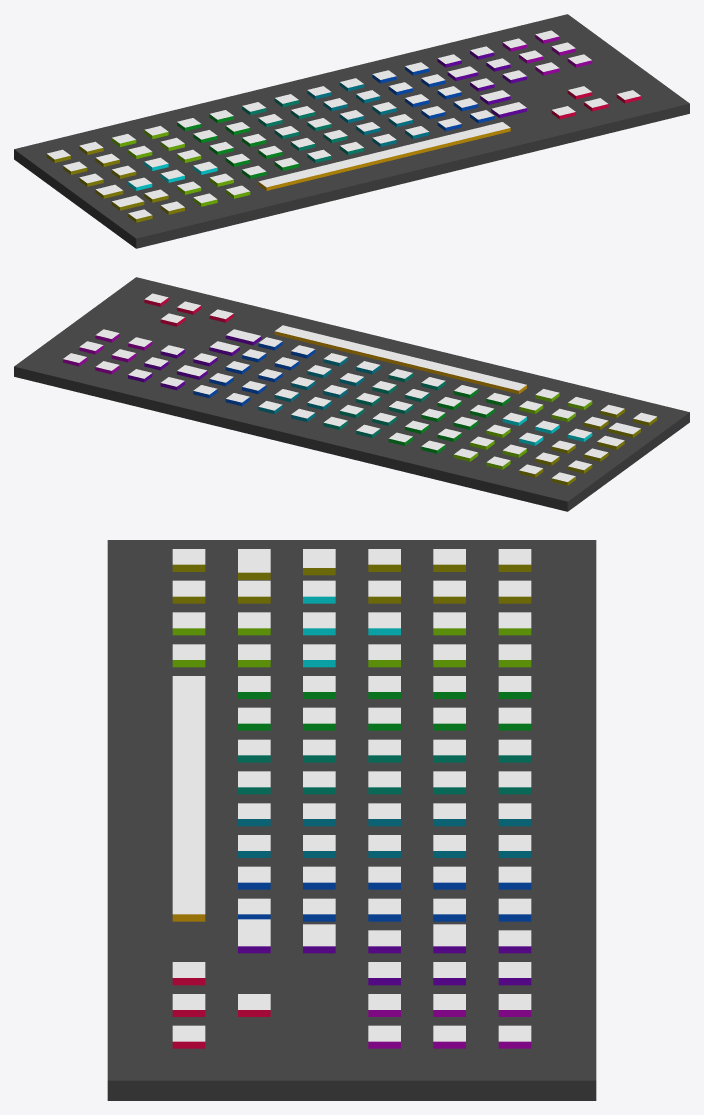
Rendered from SM_Keyboard.fbx.
3 renders of one model, top to bottom at view 1: azimuth 30°, elevation 25°; view 2: azimuth 150°, elevation 25°; view 3: azimuth 270°, elevation 25°, orthographic. The views are drawn at different scales.
Parts seen in each view (by area): view 1: pCube1; view 2: pCube1; view 3: pCube1.
Boxes of the visible parts, bbox=[...] form: pCube1: bbox=[14, 14, 689, 248]; pCube1: bbox=[14, 277, 689, 511]; pCube1: bbox=[107, 540, 596, 1100].
Bounding box in the file's own units: 210 × 5.05 × 80.16.
